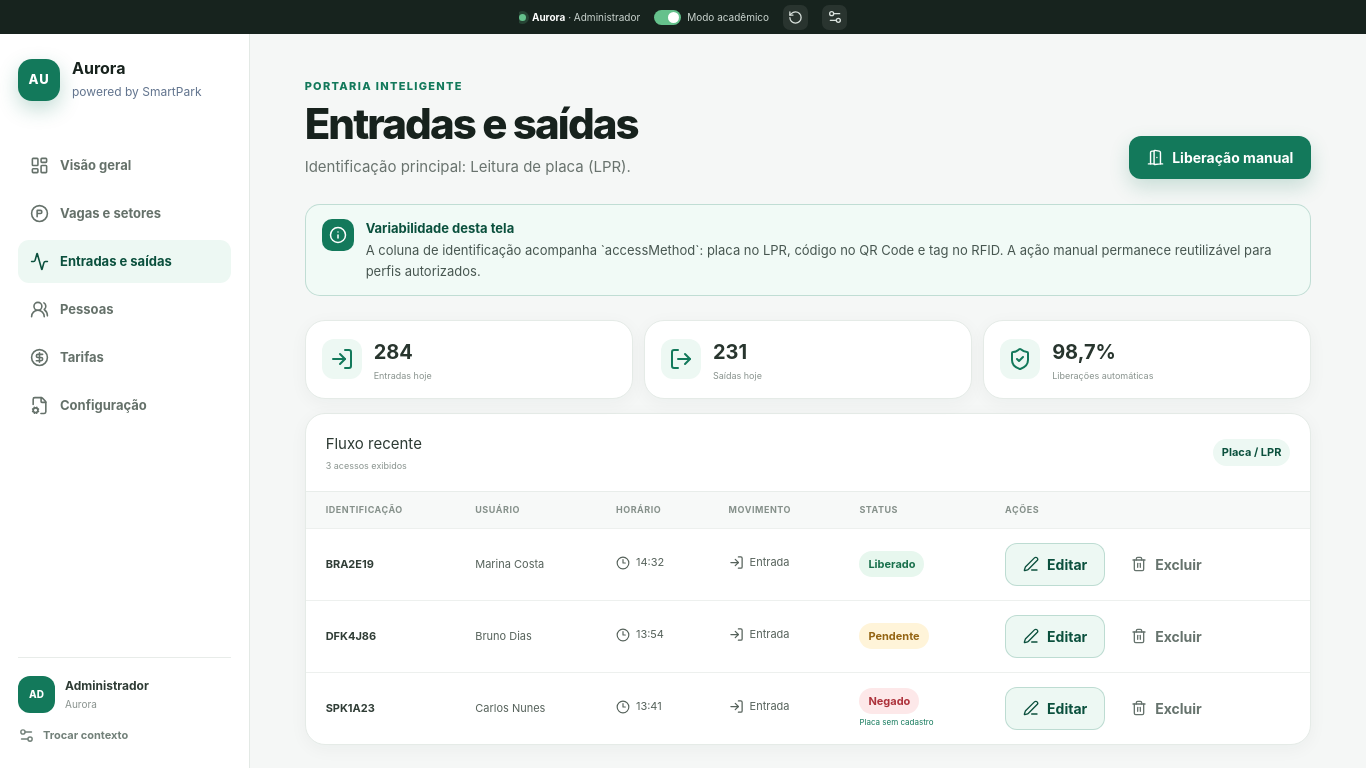
Scenario: acessos (entradas e saídas) › exclui um registro de acesso
What coordinates should you click on to do the following:
click the button with aria-label "Excluir acesso de Marina Costa"
I would click on:
 (1166, 564)
Its box is [1113,543,1220,586].
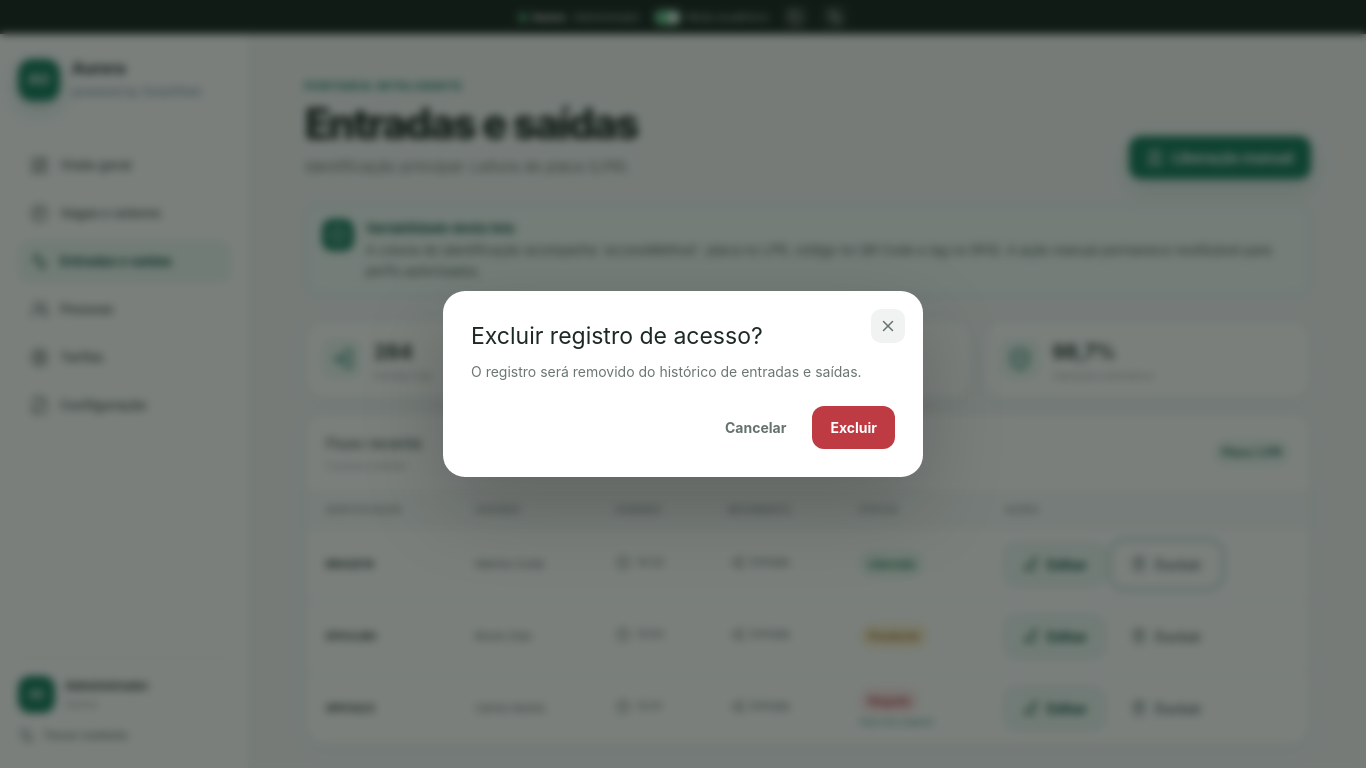
What coordinates should you click on to do the following:
click the button "Excluir"
I would click on:
 (854, 427)
Its box is [812,406,895,449].
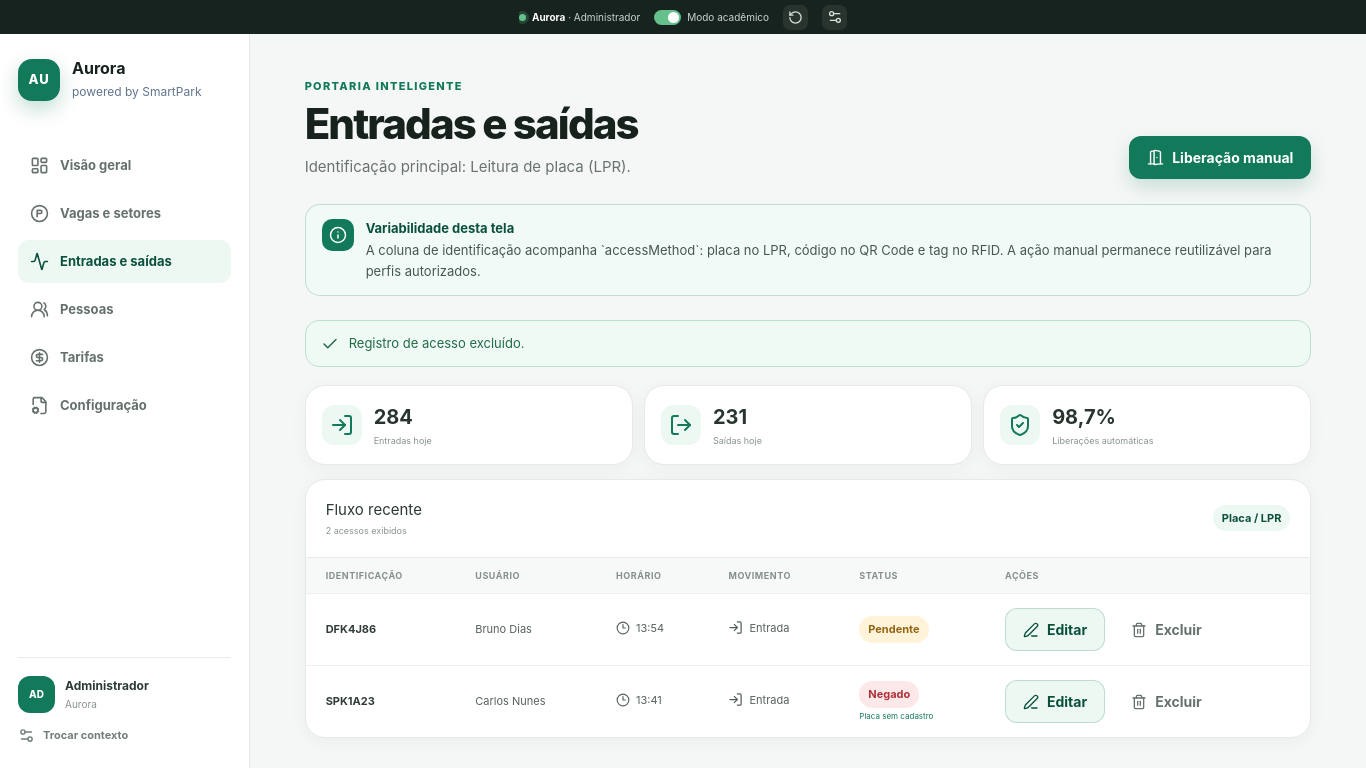
Result: the text "Registro de acesso excluído." is shown at [349,334,524,353]
Result: the text "BRA2E19" is gone
